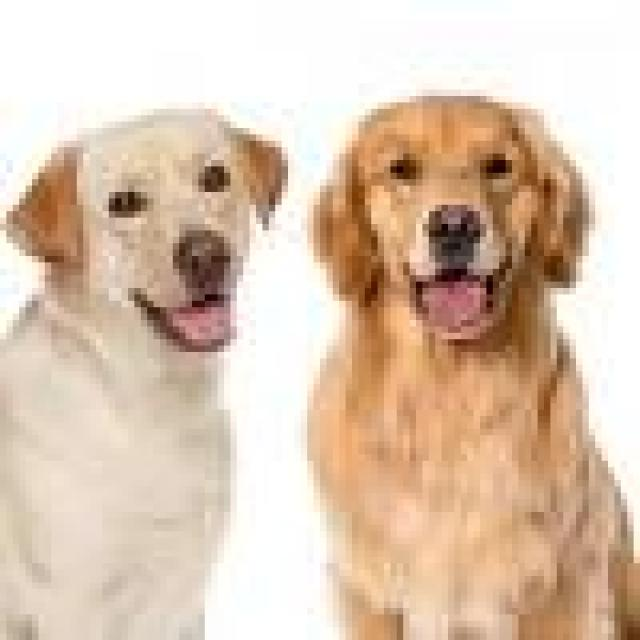Dog: (301, 86, 640, 640), (0, 96, 298, 640)
